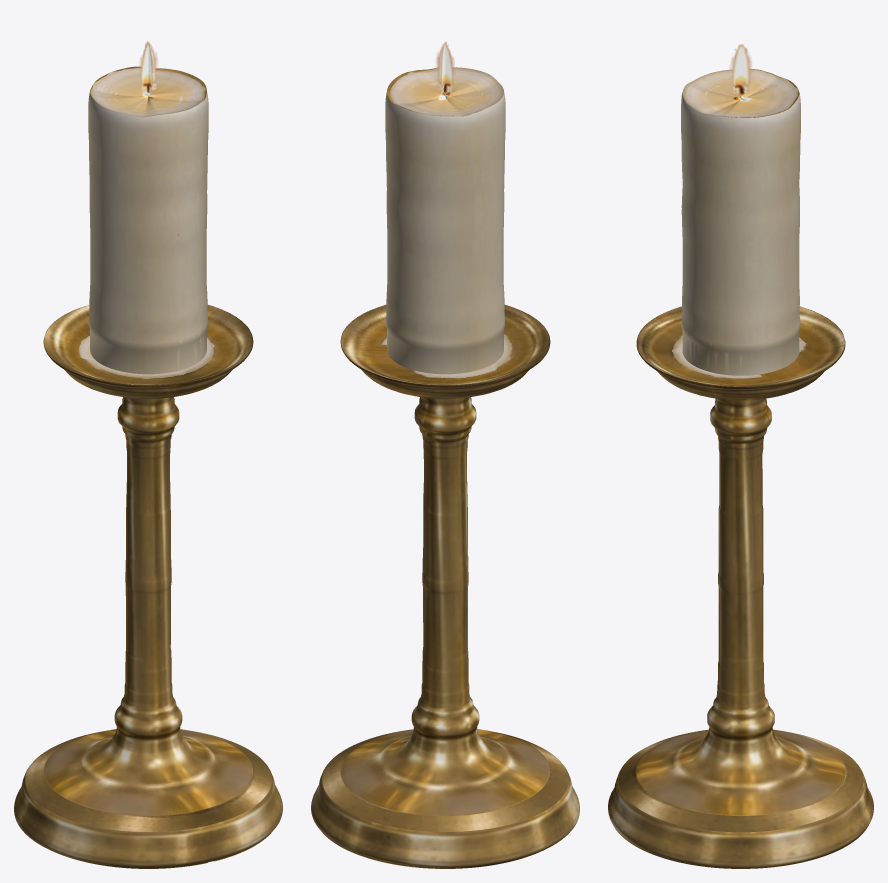
The model's file is tallcandle.glb.
3 views of the same model, side by side, from view 1: azimuth 30°, elevation 25°; view 2: azimuth 150°, elevation 25°; view 3: azimuth 270°, elevation 25° (orthographic).
Visible parts, largest first — view 1: Holder, Candle, Holder_Lower, Holder_Dish, Base_Top, Candle_Top, Flame_F; view 2: Holder, Candle, Holder_Lower, Holder_Dish, Base_Top, Candle_Top, Flame_F; view 3: Holder, Candle, Holder_Lower, Holder_Dish, Base_Top, Candle_Top, Flame_S.
Boxes of the visible parts, x1,y1,x2,y2 form: Holder: (43, 305, 253, 815); Candle: (88, 66, 208, 374); Holder_Lower: (14, 742, 282, 868); Holder_Dish: (44, 305, 252, 385); Base_Top: (25, 729, 271, 831); Candle_Top: (90, 66, 206, 117); Flame_F: (138, 44, 157, 92); Holder: (340, 305, 550, 815); Candle: (385, 67, 505, 374); Holder_Lower: (311, 742, 579, 868); Holder_Dish: (341, 305, 549, 385); Base_Top: (322, 729, 568, 831); Candle_Top: (387, 67, 503, 116); Flame_F: (436, 44, 455, 92); Holder: (636, 306, 845, 815); Candle: (681, 69, 800, 375); Holder_Lower: (608, 764, 873, 868); Holder_Dish: (637, 306, 844, 386); Base_Top: (618, 729, 863, 832); Candle_Top: (682, 69, 799, 117); Flame_S: (729, 44, 752, 94).
Size of the model in its own units: 0.0962 by 0.308 by 0.0951.
5 materials, 5 textured.
